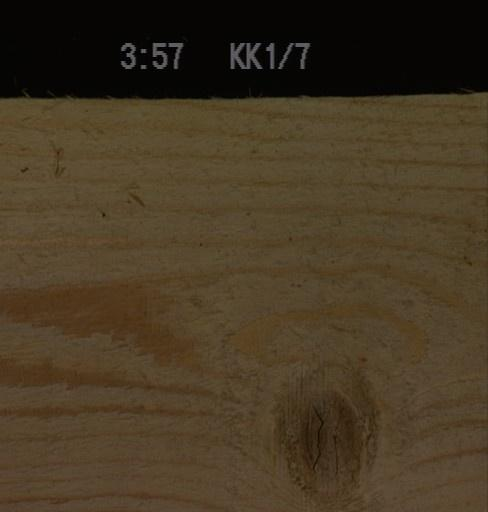sound_knot: (277, 373, 379, 503)
